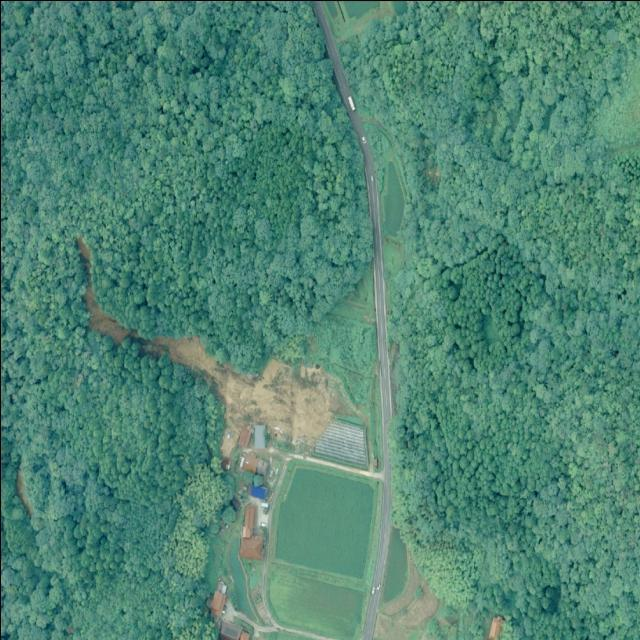landslide: (143, 336, 360, 446), (83, 288, 129, 341)
